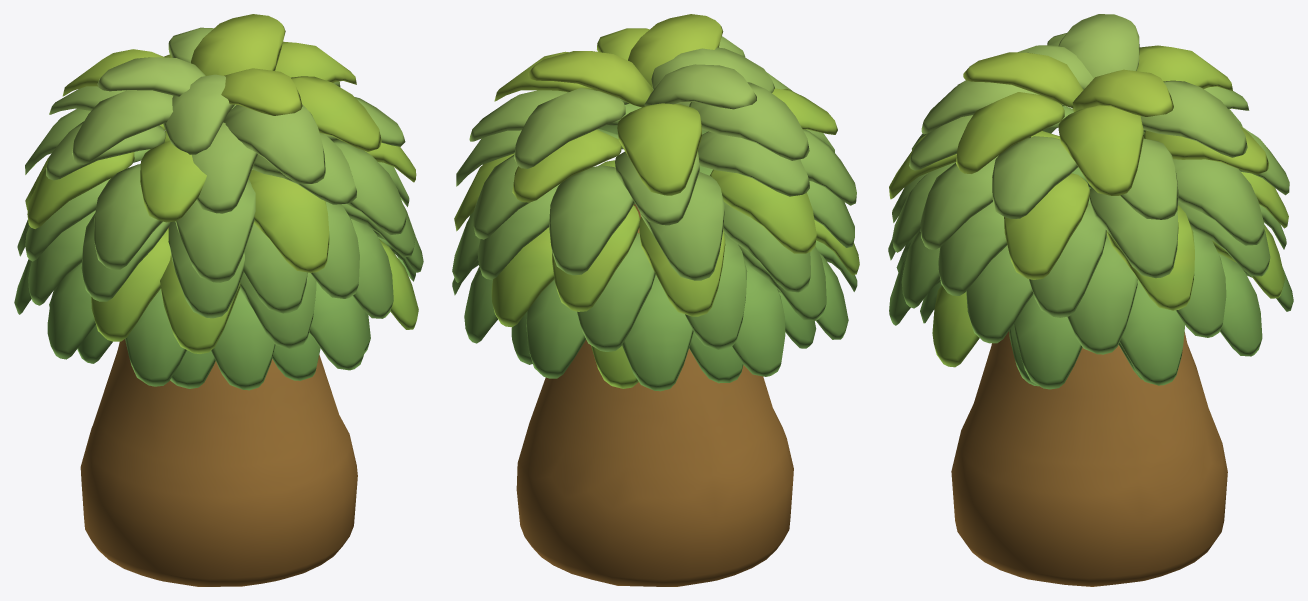
The model's file is Tree.fbx.
3 renders of one model, left to right at view 1: azimuth 30°, elevation 25°; view 2: azimuth 150°, elevation 25°; view 3: azimuth 270°, elevation 25°, orthographic.
Parts seen in each view (by area): view 1: Tree; view 2: Tree; view 3: Tree.
Part boxes in pixels (box(x1,y1,x2,y2)): Tree: box(14, 14, 423, 586); Tree: box(452, 14, 859, 586); Tree: box(888, 14, 1293, 586).
Bounding box in the file's own units: 1.67 × 2.2 × 1.67.
